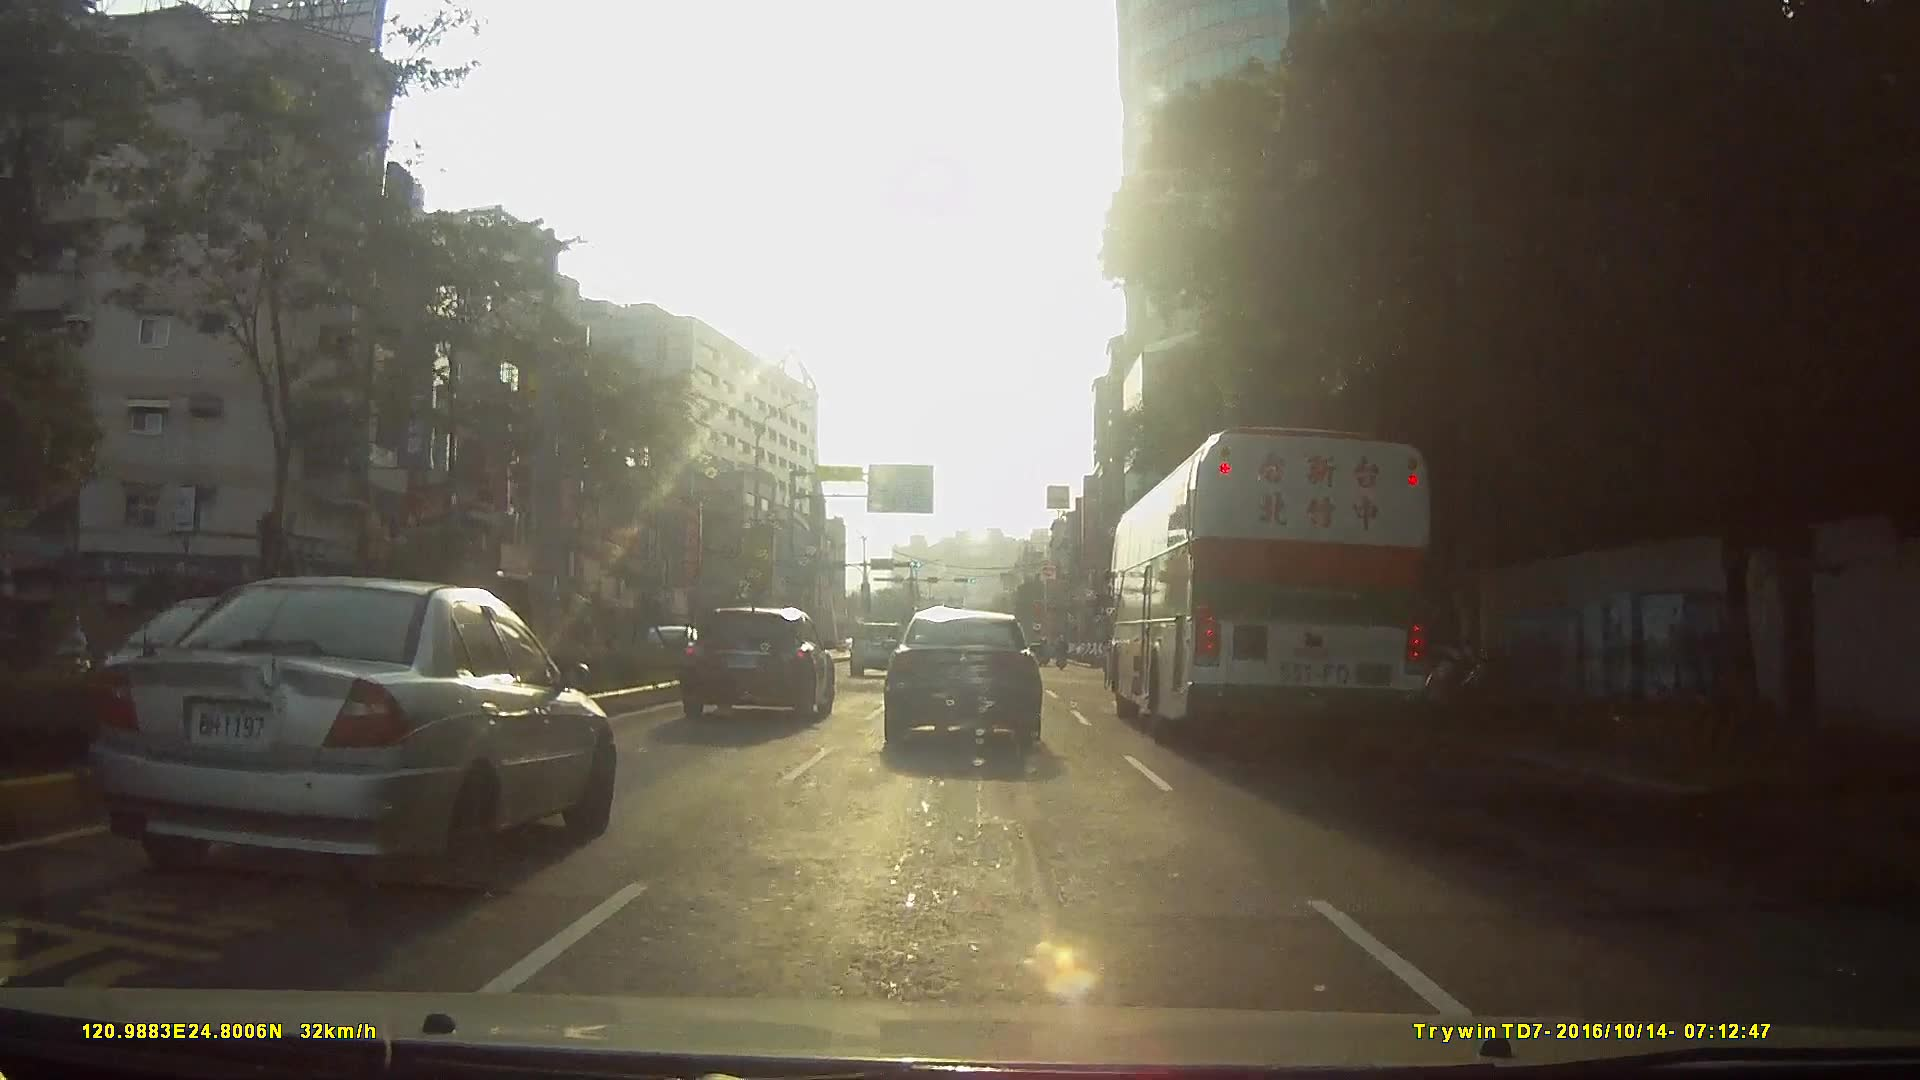vehicle: (82, 574, 618, 909), (1097, 402, 1480, 753), (881, 609, 1044, 754), (680, 603, 836, 721), (851, 622, 906, 680)
